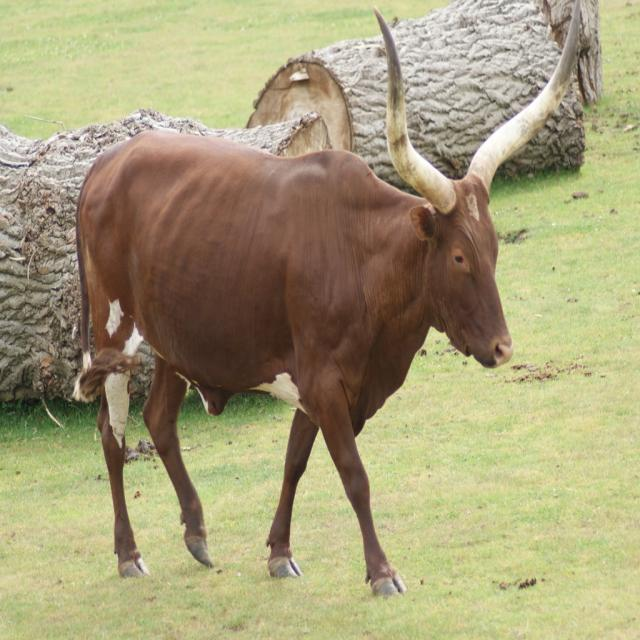Cattle: (76, 0, 583, 599)
